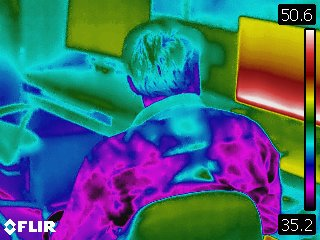human: (60, 19, 280, 233)
